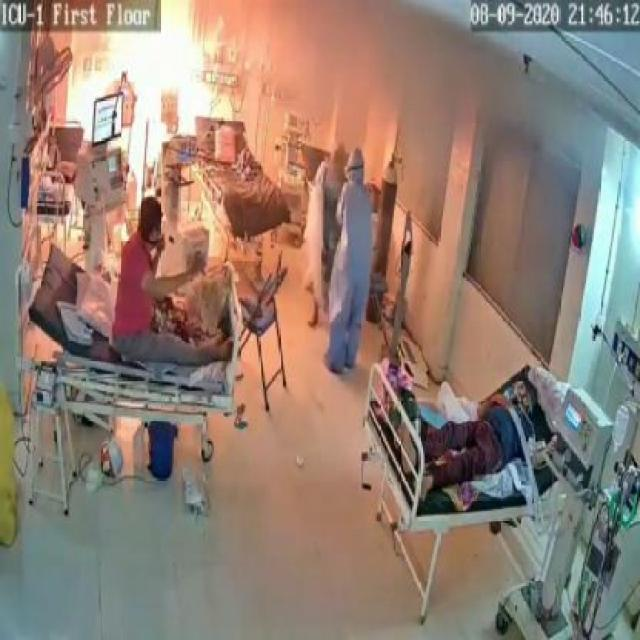fire: (102, 1, 218, 164)
smoke: (262, 1, 588, 162)
